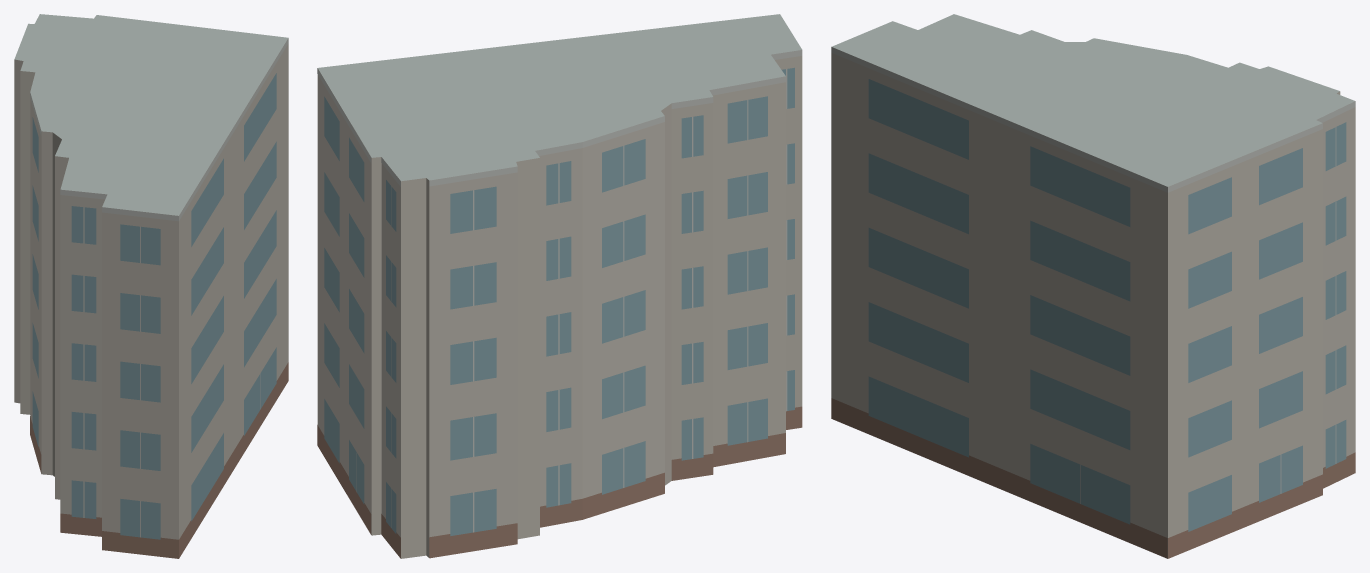
File: survey-upis-32884917.glb
3 renders of one model, left to right at view 1: azimuth 30°, elevation 25°; view 2: azimuth 150°, elevation 25°; view 3: azimuth 270°, elevation 25°, orthographic. The views are drawn at different scales.
Visible parts, largest first — view 1: survey-upis-32884917.tmp; view 2: survey-upis-32884917.tmp; view 3: survey-upis-32884917.tmp.
Boxes of the visible parts, x1,y1,x2,y2 form: survey-upis-32884917.tmp: (14, 14, 288, 558); survey-upis-32884917.tmp: (317, 14, 802, 558); survey-upis-32884917.tmp: (831, 14, 1355, 558).
Size of the model in its own units: 15.46 by 15.5 by 19.8.
